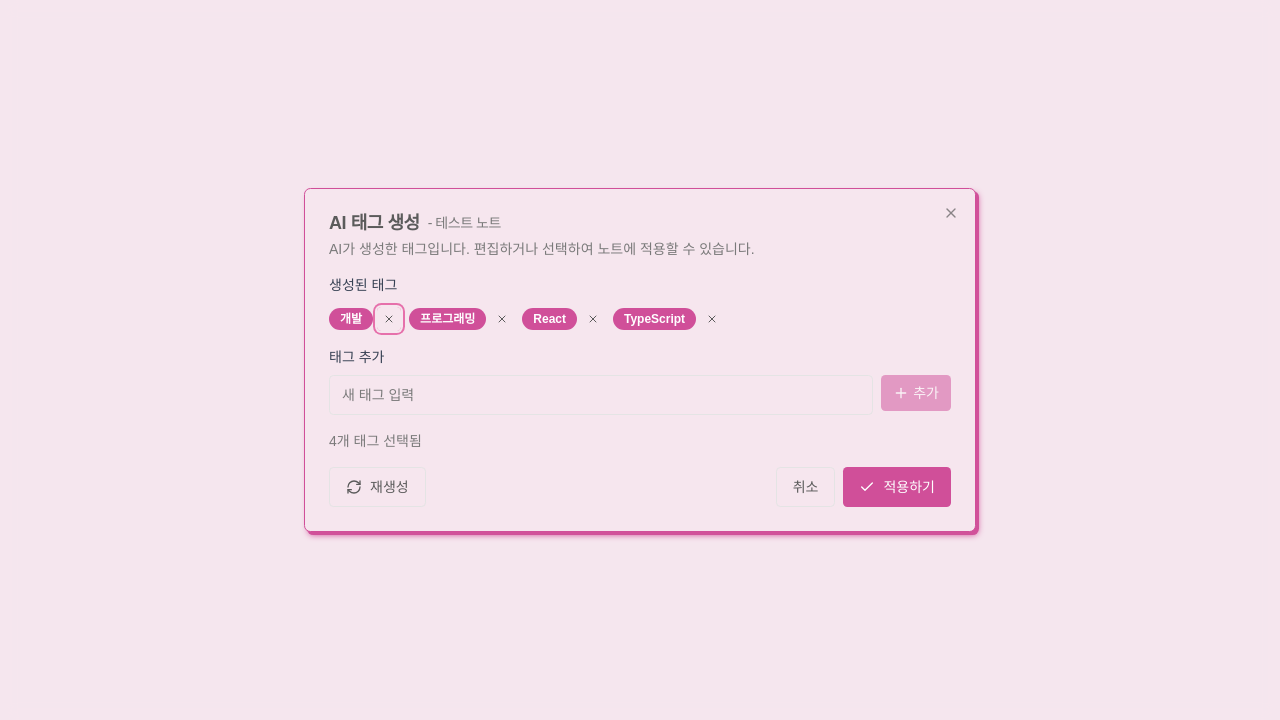
Test case: TagModal › 태그 삭제 버튼을 클릭하면 태그가 제거된다
Click the button without text next to "개발" at (389, 319), box [377,307,401,331]
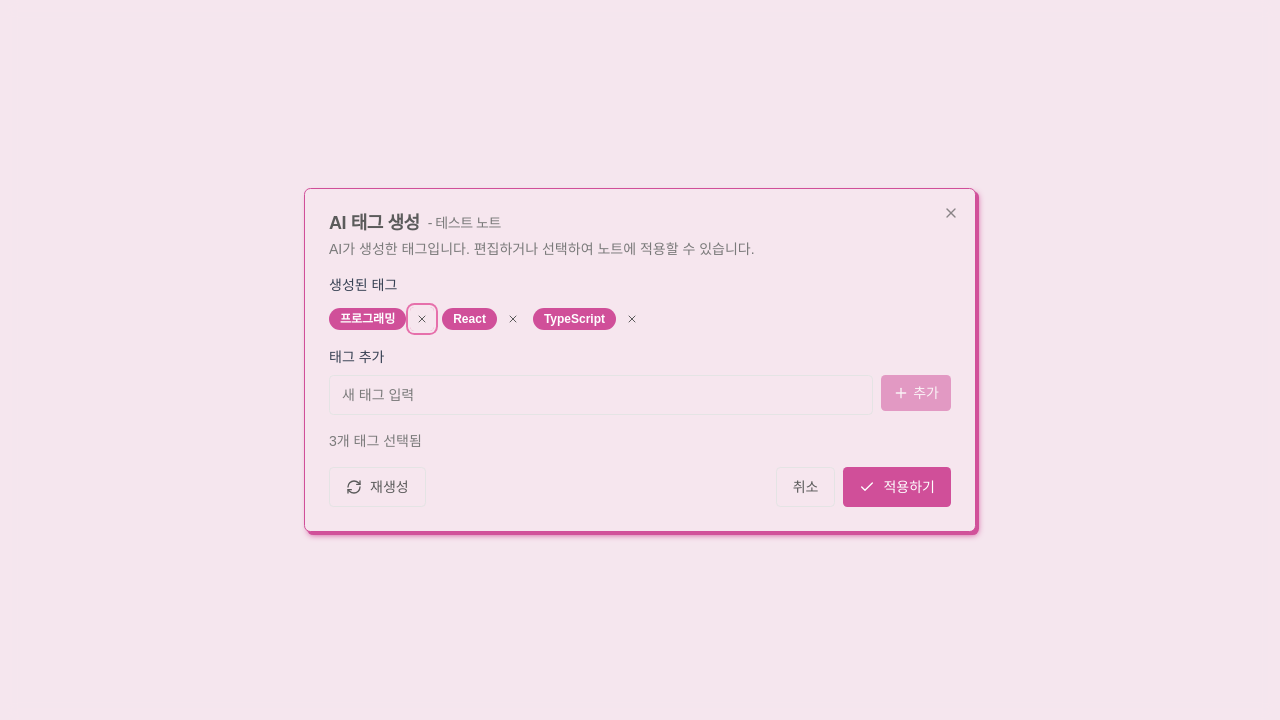
Now the text "개발" is gone
